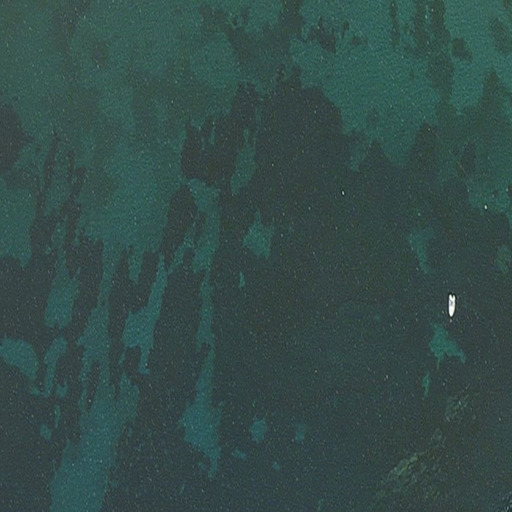ship: (446, 292, 457, 318)
